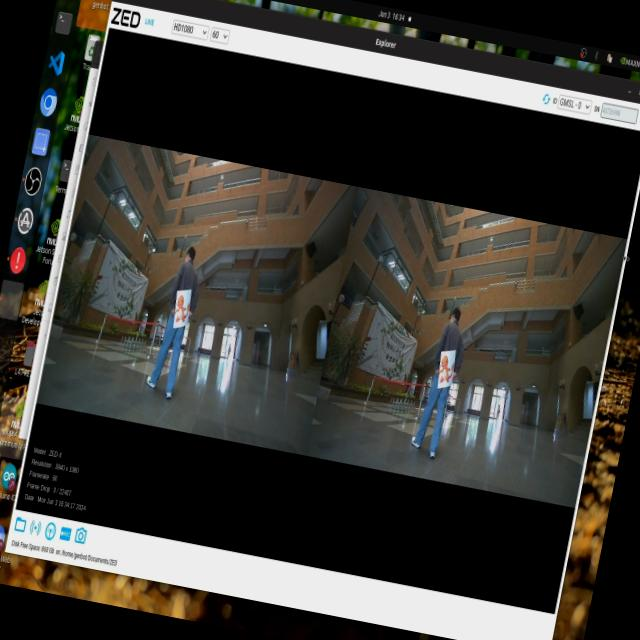red: (168, 290, 192, 338), (434, 353, 455, 394)
